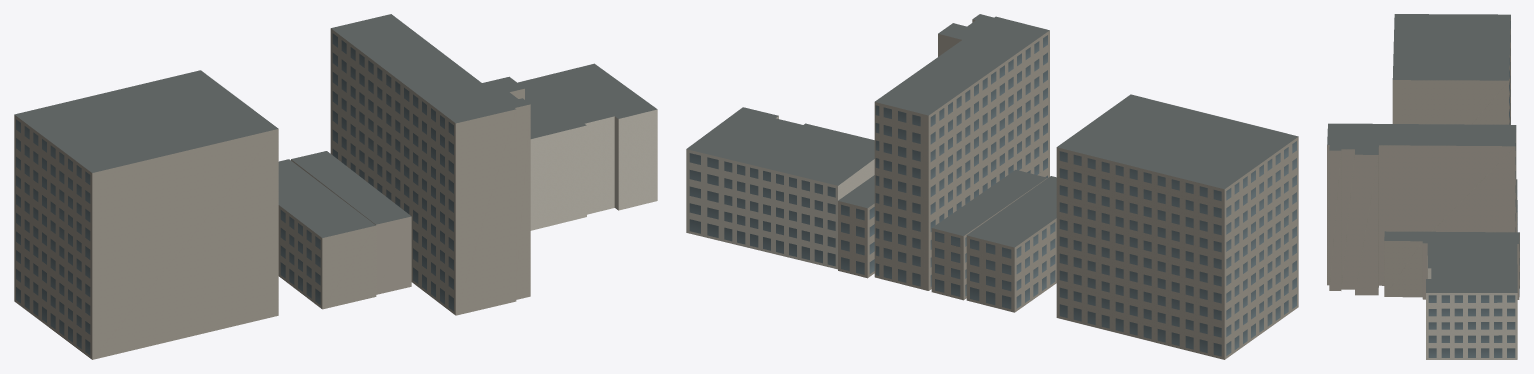
The picture shows the model from 3 angles, left to right: view 1: azimuth 30°, elevation 25°; view 2: azimuth 150°, elevation 25°; view 3: azimuth 270°, elevation 25°; orthographic projection. The views are drawn at different scales.
Visible parts, largest first — view 1: cell-e005-s001_base_tile-wall, cell-e005-s001_base_roof, cell-e005-s001_base_glass, cell-e005-s001_base_plaster; view 2: cell-e005-s001_base_tile-wall, cell-e005-s001_base_glass, cell-e005-s001_base_roof, cell-e005-s001_base_plaster; view 3: cell-e005-s001_base_tile-wall, cell-e005-s001_base_roof, cell-e005-s001_base_plaster, cell-e005-s001_base_glass.
Part boxes in pixels (<box>): cell-e005-s001_base_tile-wall: <box>14,28,530,359</box>; cell-e005-s001_base_roof: <box>14,14,657,237</box>; cell-e005-s001_base_glass: <box>16,33,453,355</box>; cell-e005-s001_base_plaster: <box>530,109,657,230</box>; cell-e005-s001_base_tile-wall: <box>838,19,1298,359</box>; cell-e005-s001_base_glass: <box>689,35,1296,356</box>; cell-e005-s001_base_roof: <box>686,14,1298,247</box>; cell-e005-s001_base_plaster: <box>686,116,874,269</box>; cell-e005-s001_base_tile-wall: <box>1327,19,1519,299</box>; cell-e005-s001_base_roof: <box>1327,14,1519,292</box>; cell-e005-s001_base_plaster: <box>1426,256,1517,359</box>; cell-e005-s001_base_glass: <box>1428,21,1519,357</box>.
Size of the model in its own units: 103 by 32.12 by 39.92.
Materials: 4 (3 with a texture image).
